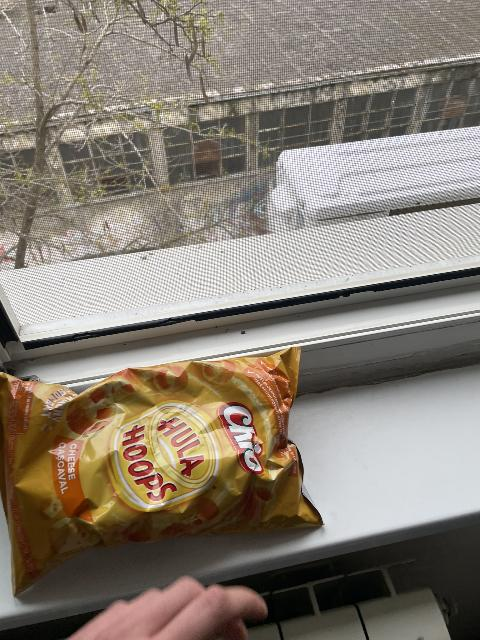Chio Hula Hoops Cheese 70g: (0, 351, 320, 598)
